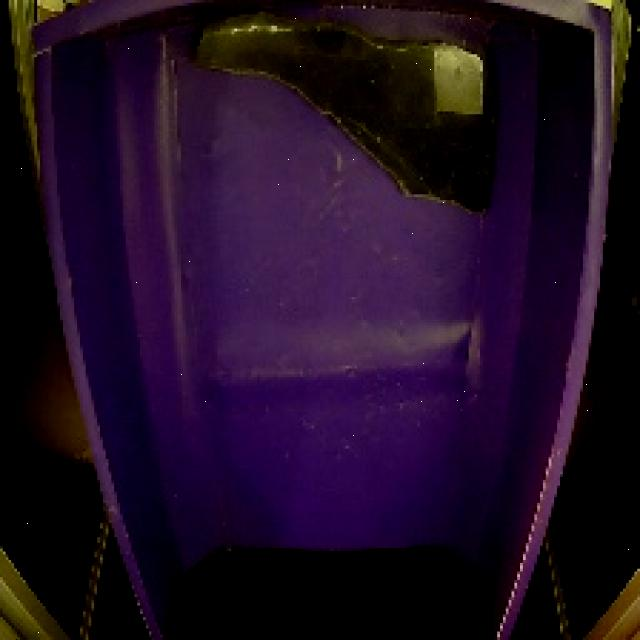china: (176, 8, 509, 228)
